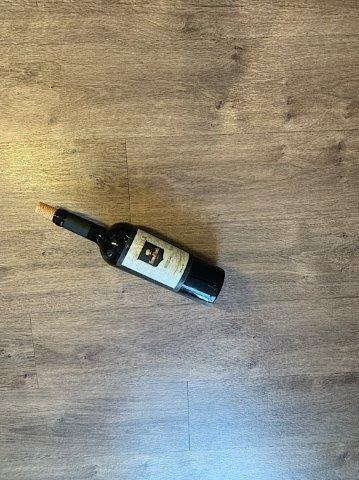botolkaca: (35, 202, 223, 305)
